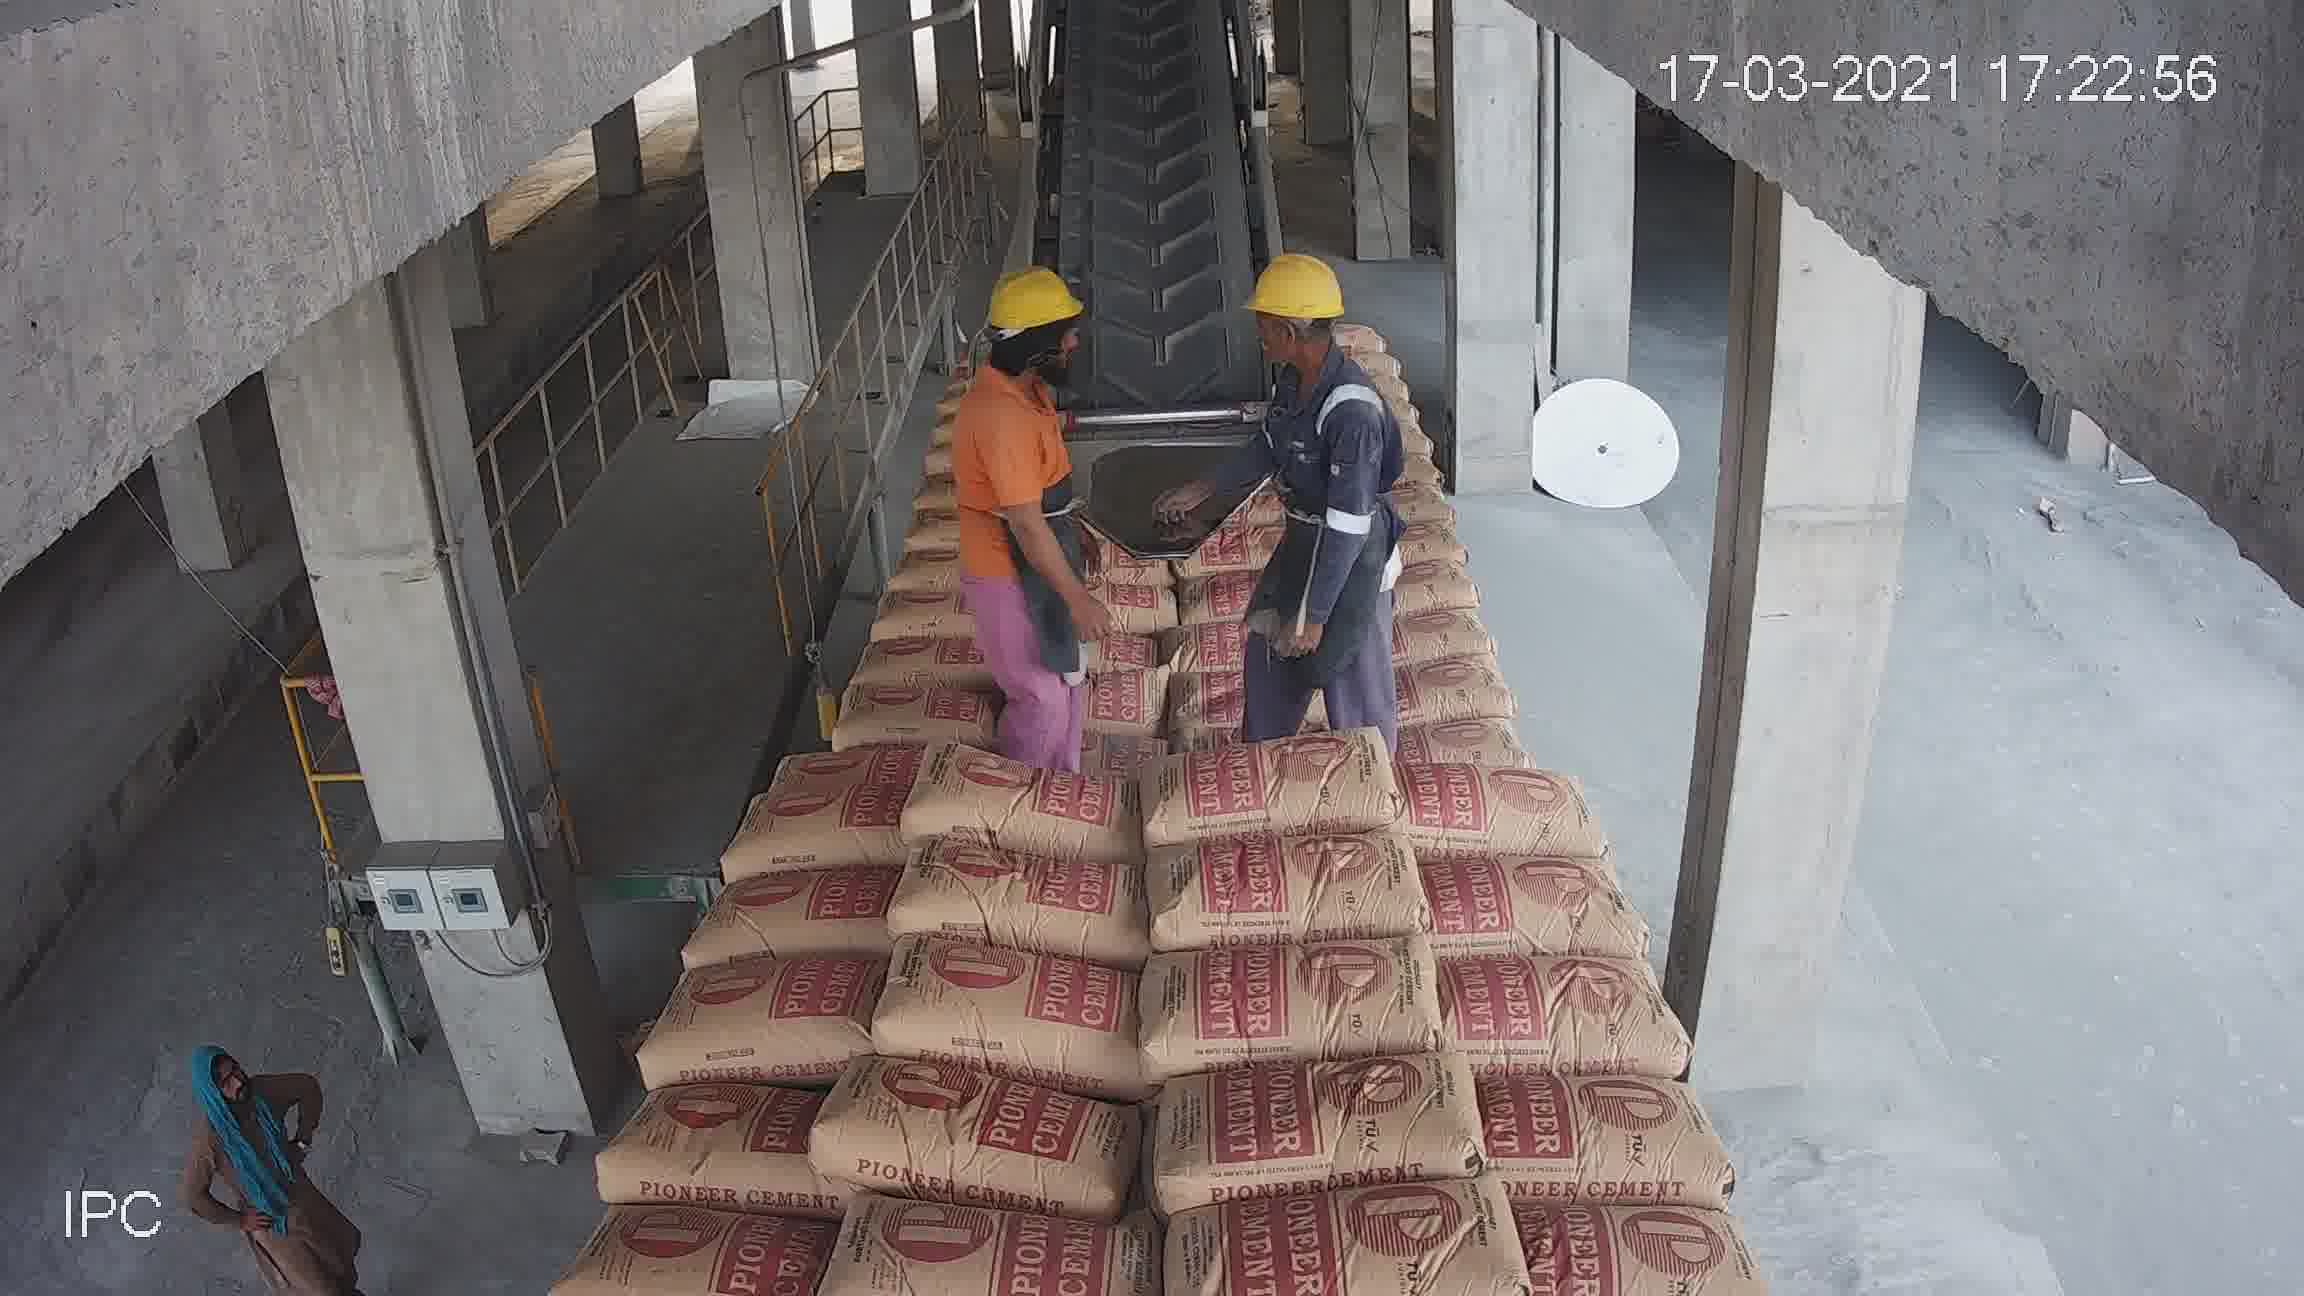bag: (843, 502, 1030, 582), (1101, 207, 1196, 361)
bag_h: (601, 946, 869, 1073), (593, 1082, 831, 1206), (548, 1211, 840, 1296), (657, 862, 888, 964), (715, 767, 908, 885), (748, 688, 924, 788), (953, 609, 1158, 692), (782, 630, 956, 711), (1364, 554, 1484, 604), (1343, 517, 1475, 563), (1347, 472, 1438, 536), (1048, 573, 1188, 614), (1332, 411, 1429, 460), (1307, 329, 1397, 380), (1051, 460, 1166, 498), (1334, 446, 1443, 484), (1065, 540, 1180, 574), (1057, 503, 1169, 532), (1317, 312, 1385, 353), (1329, 372, 1407, 404), (1348, 389, 1416, 421)
belt: (1038, 0, 1269, 397), (1155, 1150, 1519, 1296), (1152, 1054, 1464, 1207), (1139, 926, 1449, 1078), (804, 1086, 1169, 1201), (1456, 1076, 1737, 1211), (1154, 807, 1426, 942), (1139, 714, 1416, 837), (1423, 832, 1643, 972), (907, 832, 1158, 953), (883, 951, 1135, 1070), (1435, 951, 1674, 1073), (828, 1214, 1161, 1296), (1116, 665, 1374, 769), (1150, 578, 1372, 684), (1486, 1214, 1769, 1296), (1393, 760, 1608, 867), (1366, 676, 1556, 772), (897, 772, 1139, 843), (929, 688, 1149, 758), (1364, 606, 1532, 692)
